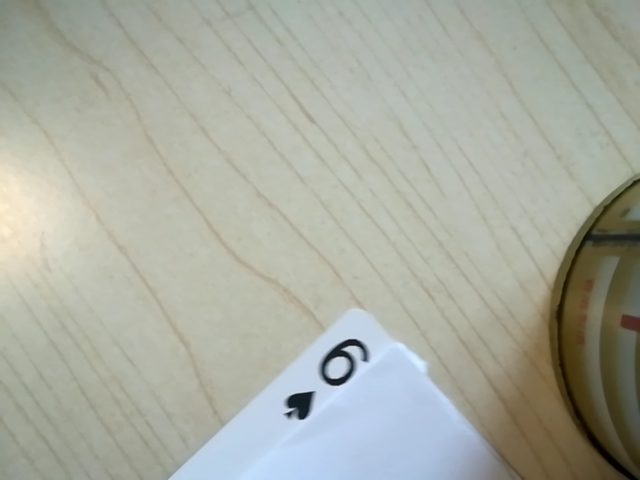ht 6: (267, 333, 385, 429)
